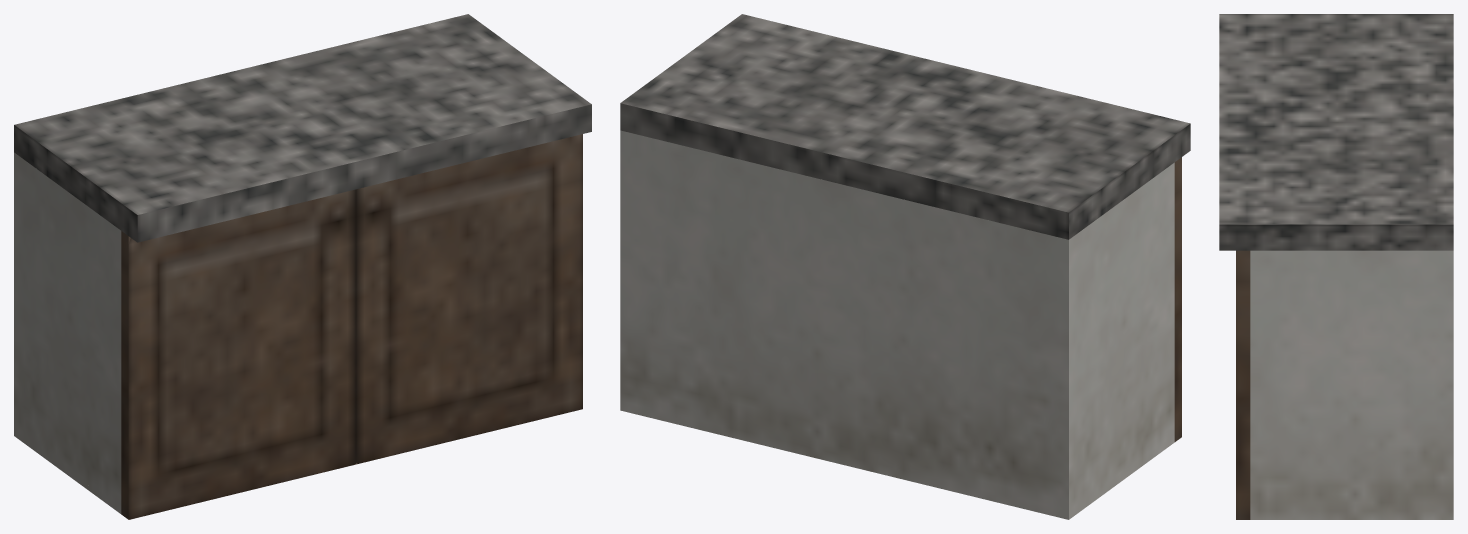
File: SM_EC_House_Kitchen_Worktop_Complete00.fbx
The picture shows the model from 3 angles, left to right: view 1: azimuth 30°, elevation 25°; view 2: azimuth 150°, elevation 25°; view 3: azimuth 270°, elevation 25°; orthographic projection. The views are drawn at different scales.
Parts seen in each view (by area): view 1: SM_EC_House_Kitchen_Worktop_Complete00, SM_EC_CupboardDoor_7.001, SM_EC_CupboardDoor_7.003; view 2: SM_EC_House_Kitchen_Worktop_Complete00, SM_EC_CupboardDoor_7.001; view 3: SM_EC_House_Kitchen_Worktop_Complete00, SM_EC_CupboardDoor_7.003.
Part boxes in pixels (bbox=[...]): SM_EC_House_Kitchen_Worktop_Complete00: bbox=[14, 14, 591, 513]; SM_EC_CupboardDoor_7.001: bbox=[121, 189, 355, 519]; SM_EC_CupboardDoor_7.003: bbox=[355, 134, 582, 464]; SM_EC_House_Kitchen_Worktop_Complete00: bbox=[620, 14, 1190, 519]; SM_EC_CupboardDoor_7.001: bbox=[1174, 157, 1181, 441]; SM_EC_House_Kitchen_Worktop_Complete00: bbox=[1219, 14, 1453, 519]; SM_EC_CupboardDoor_7.003: bbox=[1236, 250, 1250, 519].
Size of the model in its own units: 1.73 by 0.8121 by 1.13.
